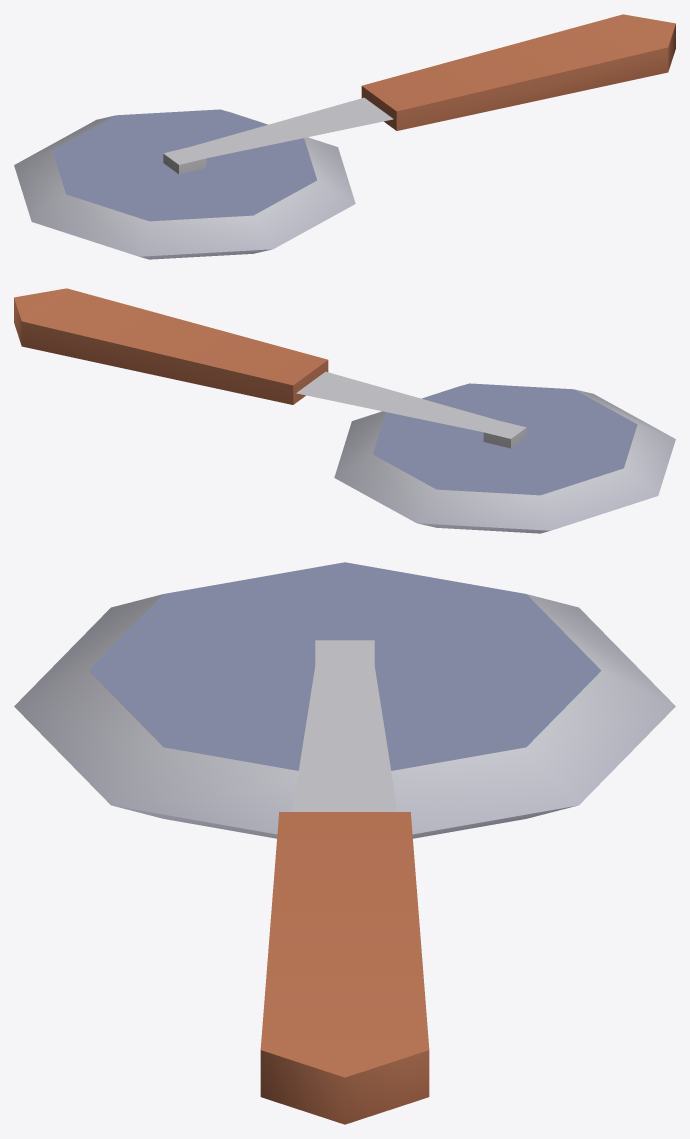
The model's file is pizza-cutter.glb.
The picture shows the model from 3 angles, top to bottom: view 1: azimuth 30°, elevation 25°; view 2: azimuth 150°, elevation 25°; view 3: azimuth 270°, elevation 25°; orthographic projection. The views are drawn at different scales.
Parts seen in each view (by area): view 1: pizza-cutter; view 2: pizza-cutter; view 3: pizza-cutter.
Part boxes in pixels (<box>): pizza-cutter: <box>14,14,675,259</box>; pizza-cutter: <box>14,288,675,533</box>; pizza-cutter: <box>14,562,675,1124</box>.
Size of the model in its own units: 0.536 by 0.0556 by 0.2549.
